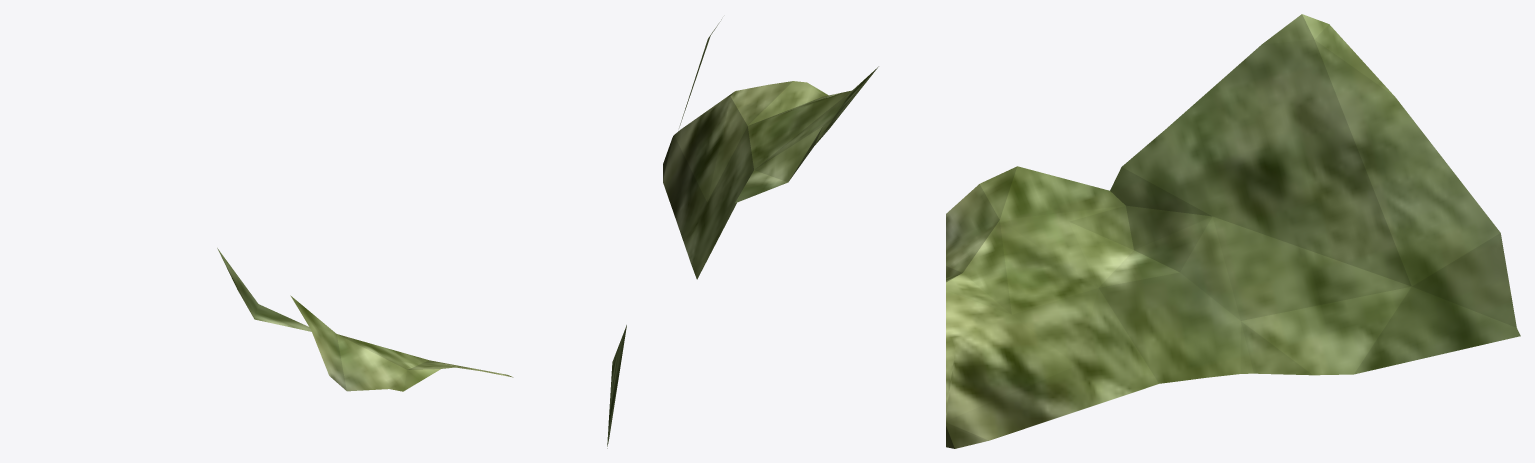
3 renders of one model, left to right at view 1: azimuth 30°, elevation 25°; view 2: azimuth 150°, elevation 25°; view 3: azimuth 270°, elevation 25°, orthographic. The views are drawn at different scales.
Bounding box in the file's own units: 0.7273 × 0.9684 × 1.57.
1 material, 1 textured.
